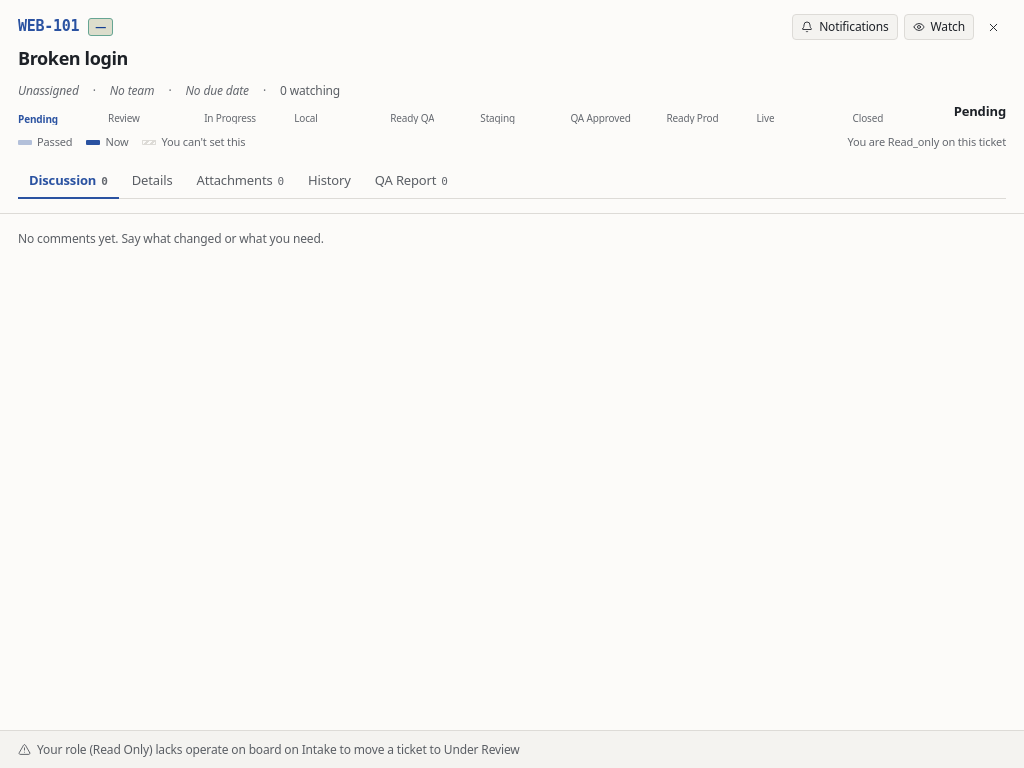
Test: TicketDetailDrawer › shows assignee and team as read-only on the Details tab when the metadata rail is hidden
Expected: the text "WEB-101" is shown, [18, 16, 79, 38]
Click the tab "Details" at [152, 182], box [121, 164, 184, 199]
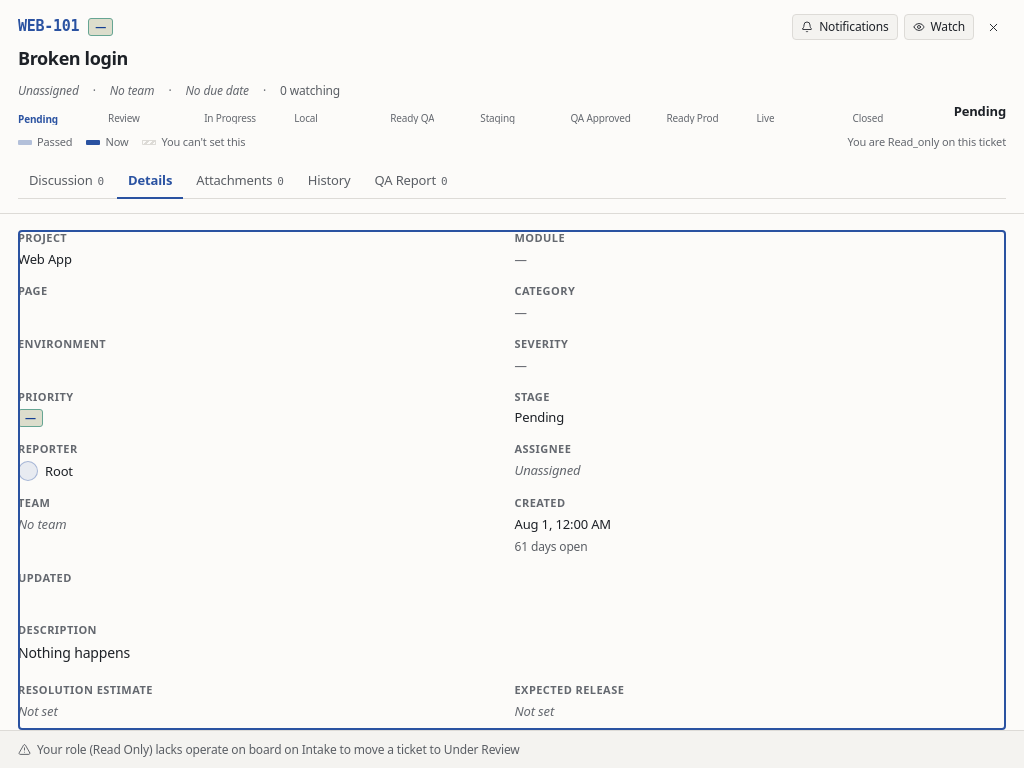
Expected: the text "Assignee" is shown, [514, 441, 571, 456]
Expected: the text "Team" is shown, [18, 495, 50, 510]
